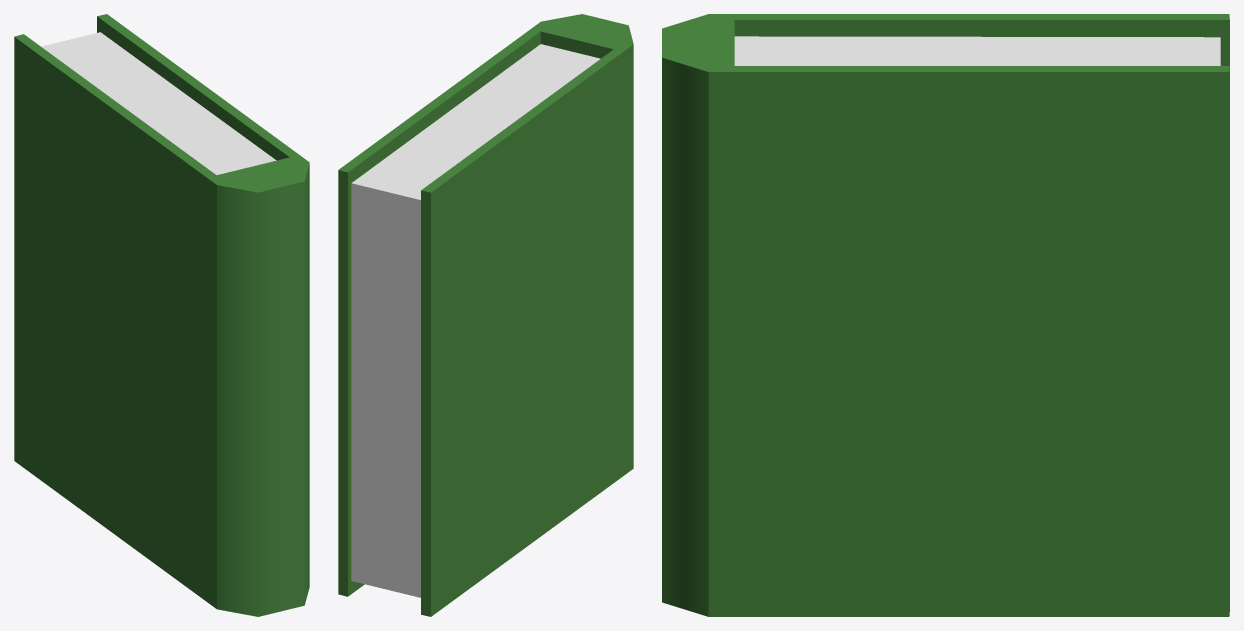
Rendered from geo_Book.fbx.
3 views of the same model, side by side, from view 1: azimuth 30°, elevation 25°; view 2: azimuth 150°, elevation 25°; view 3: azimuth 270°, elevation 25° (orthographic). The views are drawn at different scales.
Visible parts, largest first — view 1: pCube139; view 2: pCube139; view 3: pCube139.
Boxes of the visible parts, x1=… form: pCube139: x1=14, y1=14, x2=309, y2=616; pCube139: x1=338, y1=14, x2=633, y2=616; pCube139: x1=662, y1=14, x2=1229, y2=616.
Bounding box in the file's own units: 6.85 × 29.91 × 28.26.
Materials: 1 (1 with a texture image).
